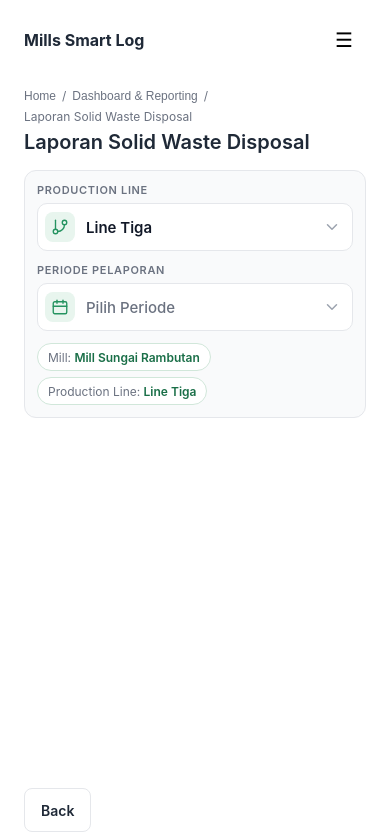
Scenario: jalur sukses › skenario 1: operator melihat kerangka laporan penuh, dan tiap angka sama dengan medan payload-nya
This screenshot has width=390, height=837.
Select "Solid Waste Disposal — Periode Uji Solid Waste Disposal" in the dropdown with test id "period-select" at coordinates (195, 307), box [37, 283, 353, 331]
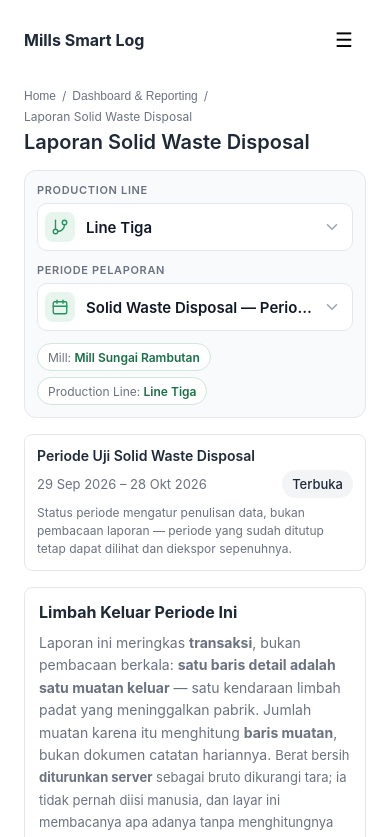
Check: the text "Terbuka" is shown, box [292, 478, 343, 490]
